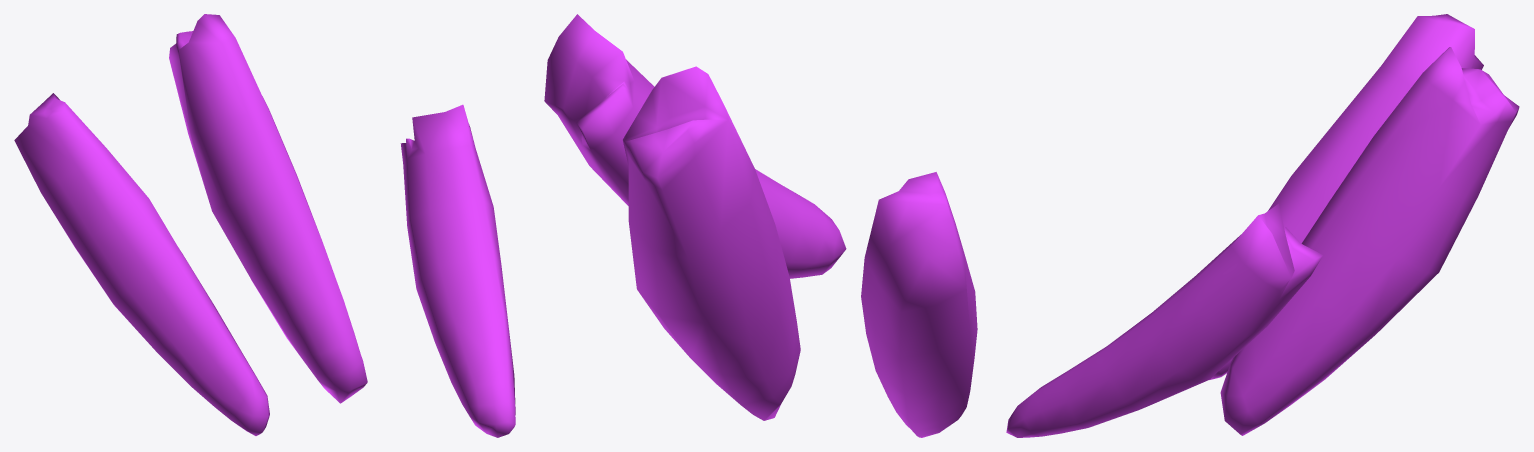
File: SM_Thorn_01_Broken_B.FBX
3 renders of one model, left to right at view 1: azimuth 30°, elevation 25°; view 2: azimuth 150°, elevation 25°; view 3: azimuth 270°, elevation 25°, orthographic. The views are drawn at different scales.
Visible parts, largest first — view 1: dsf; view 2: dsf; view 3: dsf.
Part boxes in pixels (left/top/right/bottom): dsf: left=14, top=14, right=515, bottom=437; dsf: left=544, top=14, right=977, bottom=437; dsf: left=1006, top=14, right=1519, bottom=437.
Size of the model in its own units: 433 by 365 by 466.
